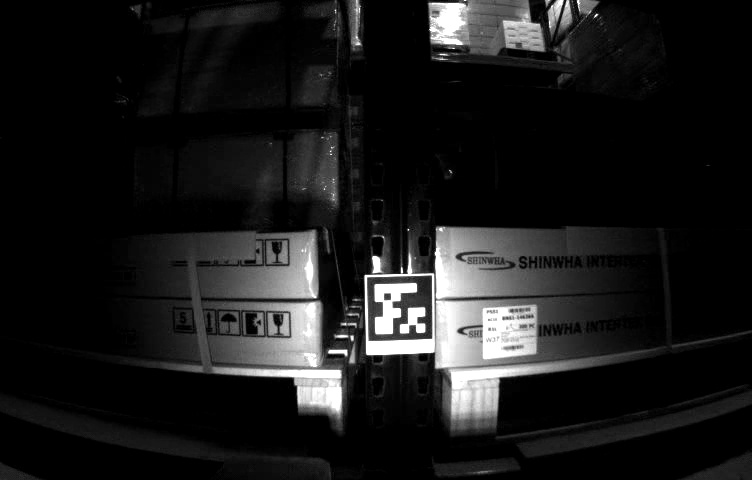True Barcode: (483, 304, 538, 358)
